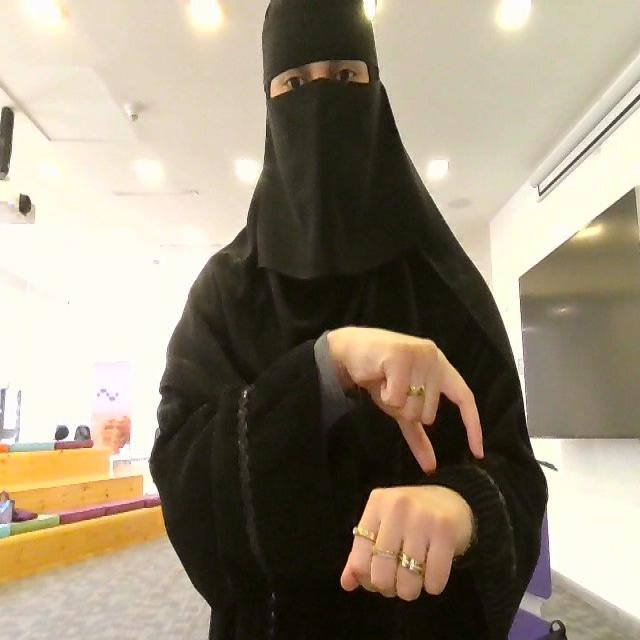appointment: (326, 322, 487, 603)
